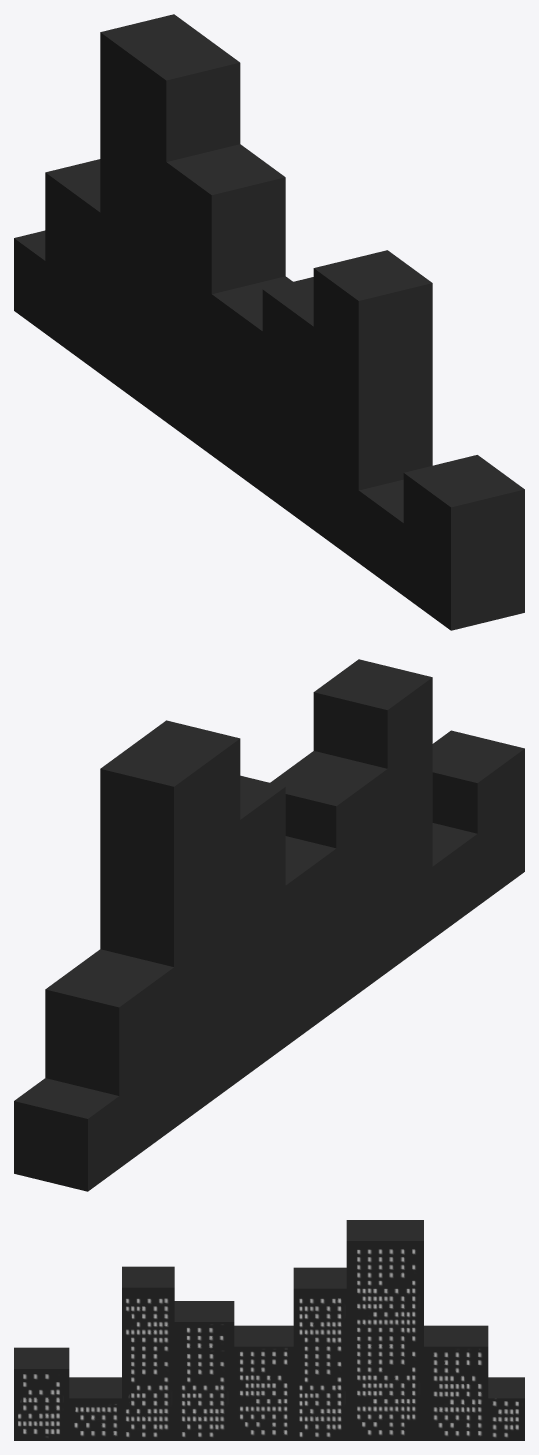
The model's file is Stage11.fbx.
The picture shows the model from 3 angles, top to bottom: view 1: azimuth 30°, elevation 25°; view 2: azimuth 150°, elevation 25°; view 3: azimuth 270°, elevation 25°; orthographic projection. The views are drawn at different scales.
Parts seen in each view (by area): view 1: pCube1; view 2: pCube1; view 3: pCube1.
Boxes of the visible parts, <box> form: pCube1: <box>14,14,524,630</box>; pCube1: <box>14,659,524,1191</box>; pCube1: <box>14,1220,524,1440</box>.
Bounding box in the file's own units: 127 × 560 × 1297.
Materials: 1 (1 with a texture image).
